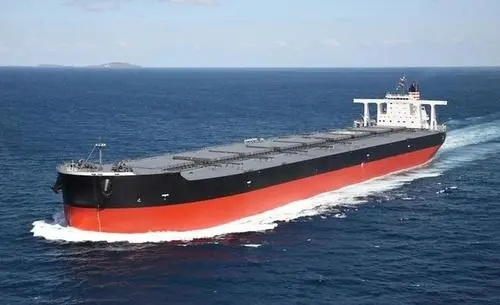Cargoship: (45, 74, 449, 236)
